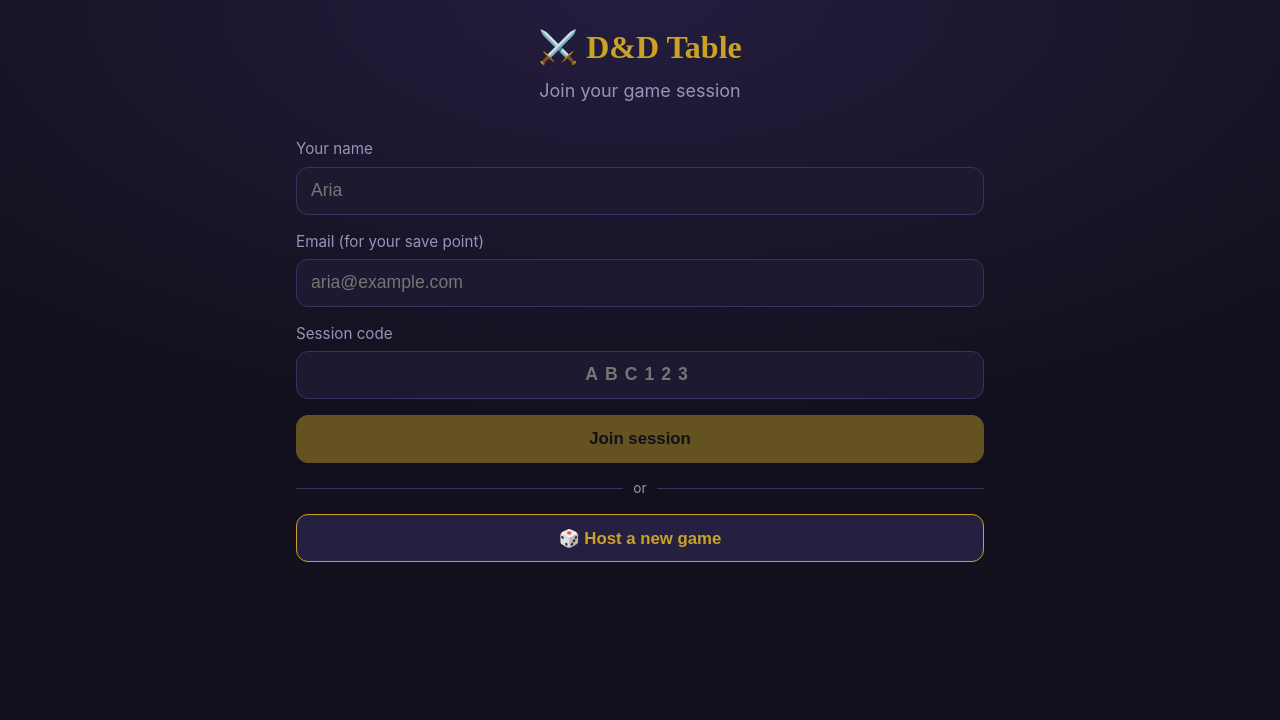
App › host button creates a session and shows the big code
Click the button "🎲 Host a new game": {"x": 640, "y": 538} [296,514,984,562]
(page scrolled)
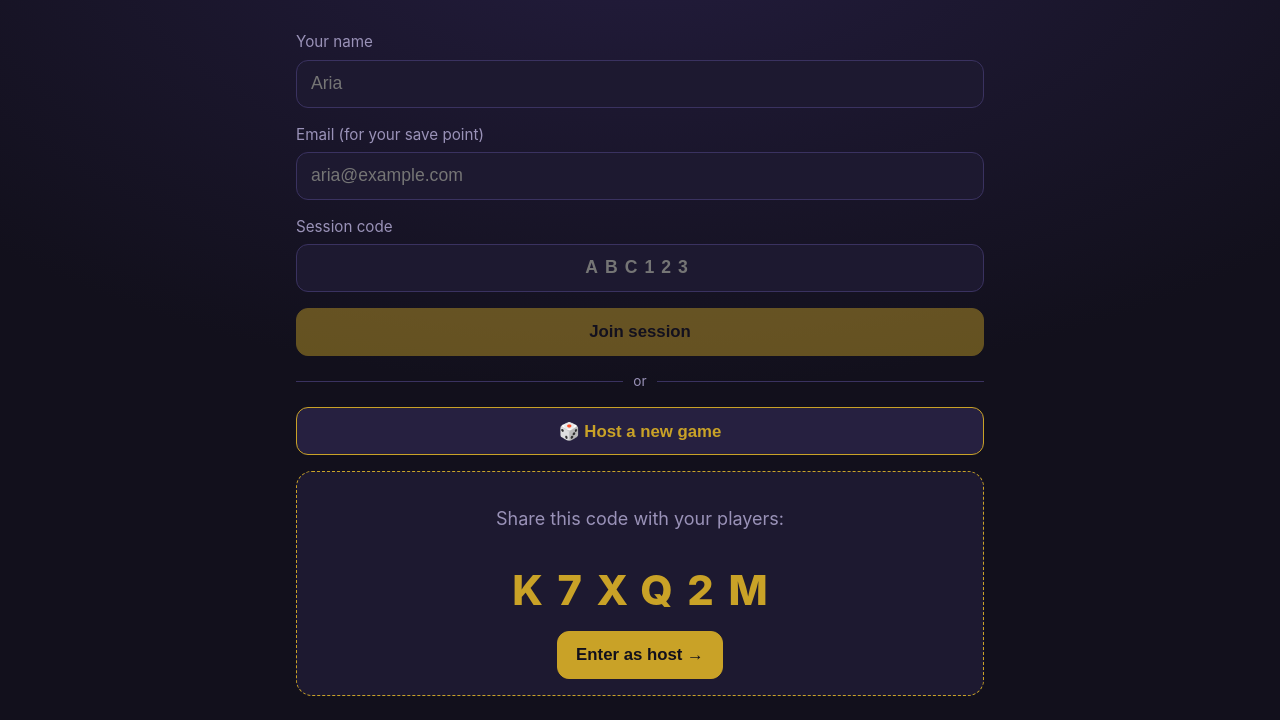
Expected: the element with test id "host-code" is shown, [296,471,984,696]
Expected: the text "K7XQ2M" is shown, [498,560,782,621]
